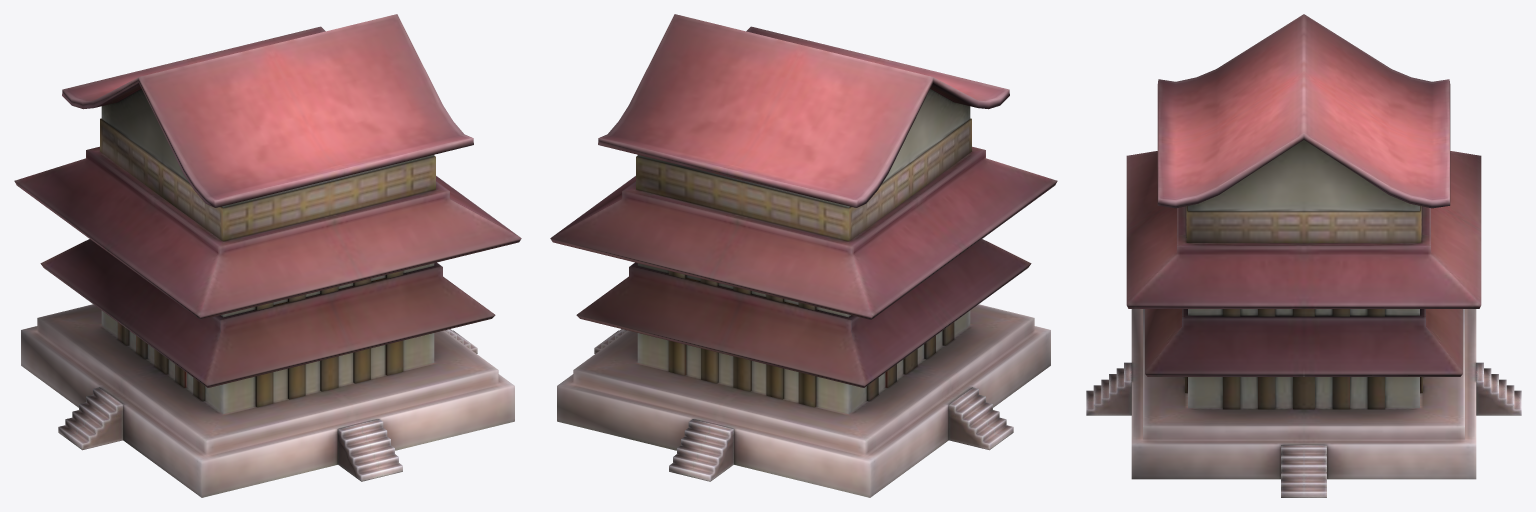
The model's file is SunTzusWarAcademy.glb.
3 renders of one model, left to right at view 1: azimuth 30°, elevation 25°; view 2: azimuth 150°, elevation 25°; view 3: azimuth 270°, elevation 25°, orthographic. The views are drawn at different scales.
Visible parts, largest first — view 1: Cube.001; view 2: Cube.001; view 3: Cube.001.
Boxes of the visible parts, <box> form: Cube.001: <box>14,14,521,497</box>; Cube.001: <box>550,14,1057,497</box>; Cube.001: <box>1086,14,1521,497</box>.
Size of the model in its own units: 3.75 by 3.16 by 3.75.
1 material, 1 textured.
